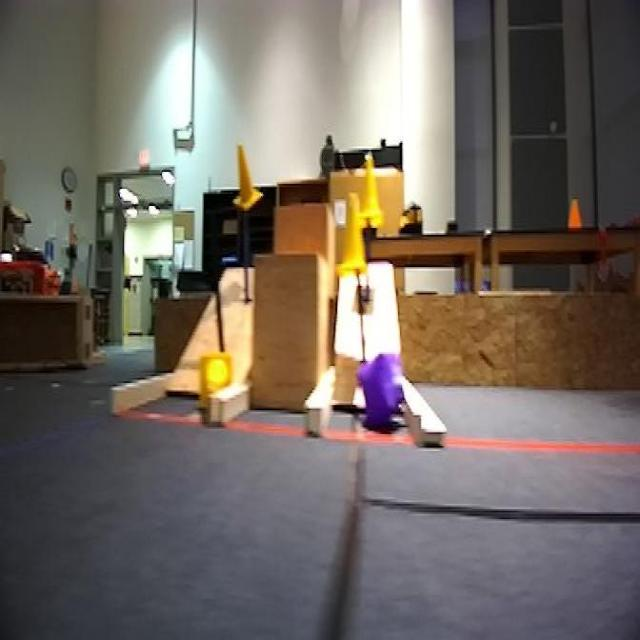frc_cone: (334, 199, 367, 278), (229, 140, 262, 216), (197, 354, 233, 412), (358, 157, 379, 223)
frc_cube: (355, 352, 406, 432)
